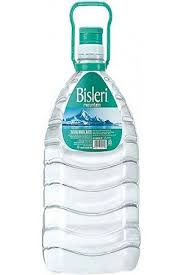Bisleri: (75, 87, 111, 106)
plastic: (80, 29, 133, 256)
